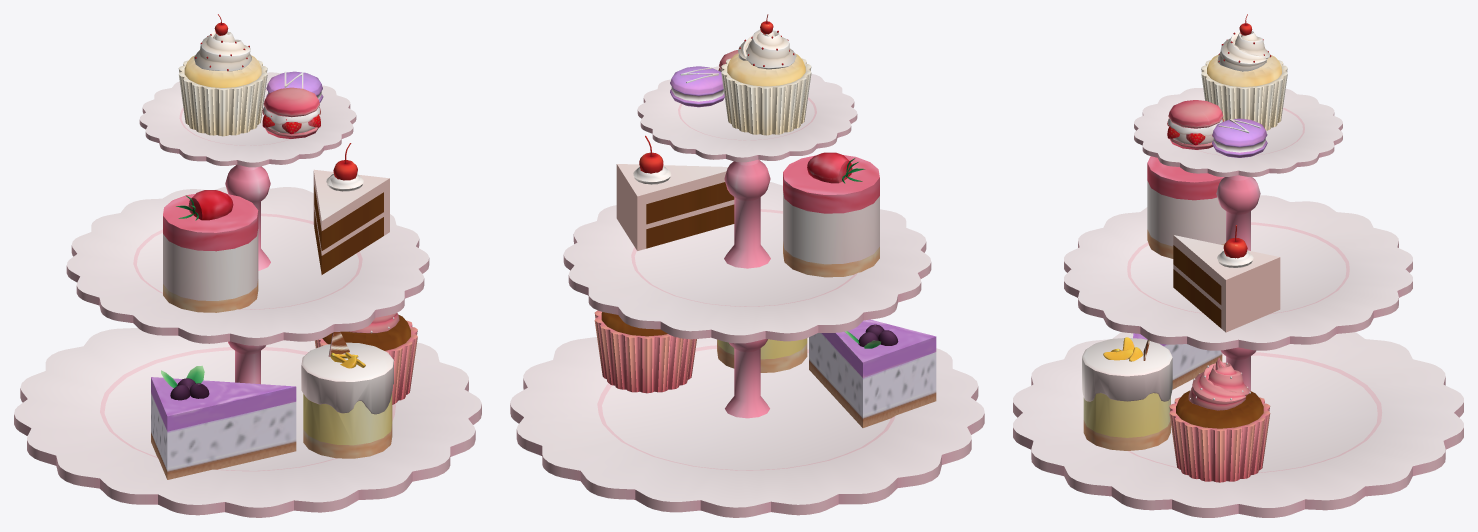
File: Doll_OB_Teaset_003.FBX
3 renders of one model, left to right at view 1: azimuth 30°, elevation 25°; view 2: azimuth 150°, elevation 25°; view 3: azimuth 270°, elevation 25°, orthographic. The views are drawn at different scales.
Parts seen in each view (by area): view 1: Doll_OB_Teaset_003; view 2: Doll_OB_Teaset_003; view 3: Doll_OB_Teaset_003.
Part boxes in pixels (x1,y1,x2,y2): Doll_OB_Teaset_003: (14, 14, 481, 517); Doll_OB_Teaset_003: (510, 14, 984, 517); Doll_OB_Teaset_003: (1013, 14, 1463, 517).
Size of the model in its own units: 4.4 by 4.27 by 4.4.
